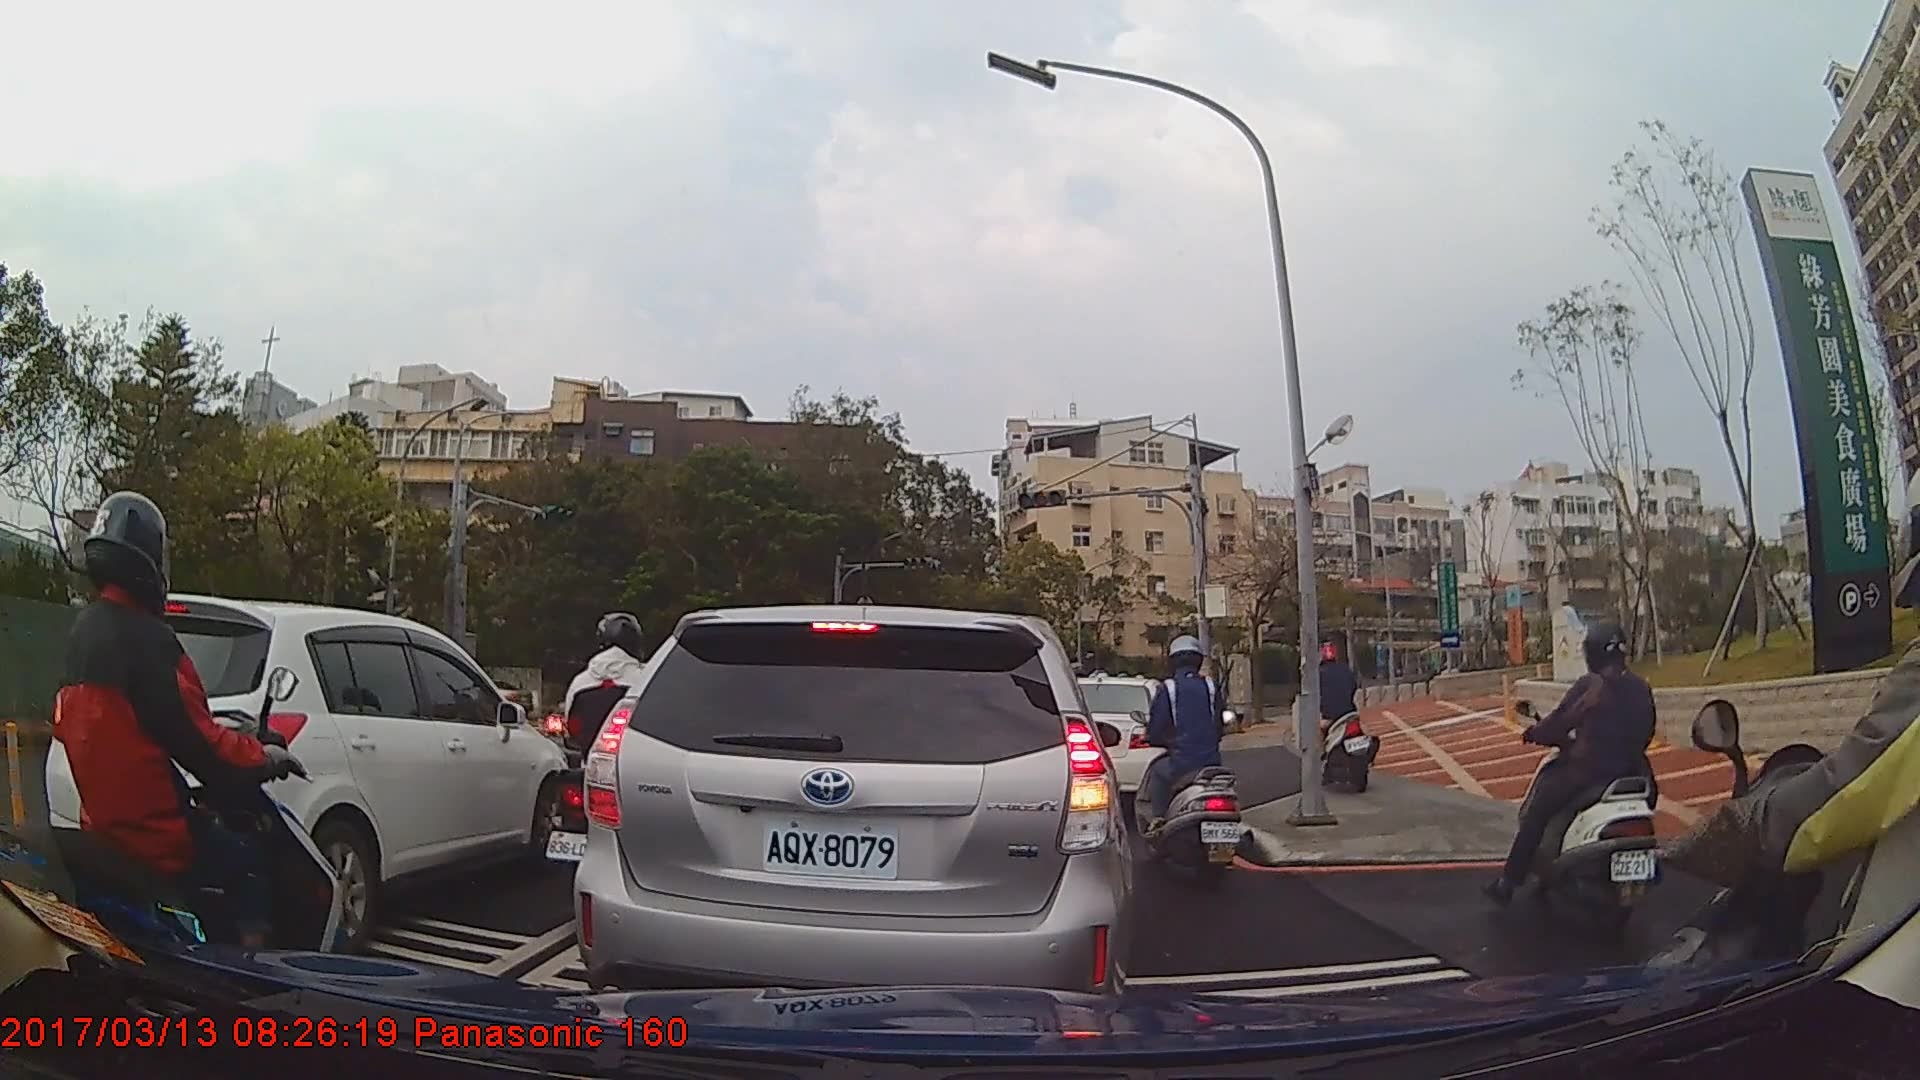rider: (1, 487, 350, 1054), (1651, 456, 1920, 1080), (1486, 619, 1666, 927), (538, 605, 693, 917), (1134, 634, 1250, 893), (1300, 641, 1377, 804)
vehicle: (570, 602, 1133, 1024), (39, 592, 577, 946)
